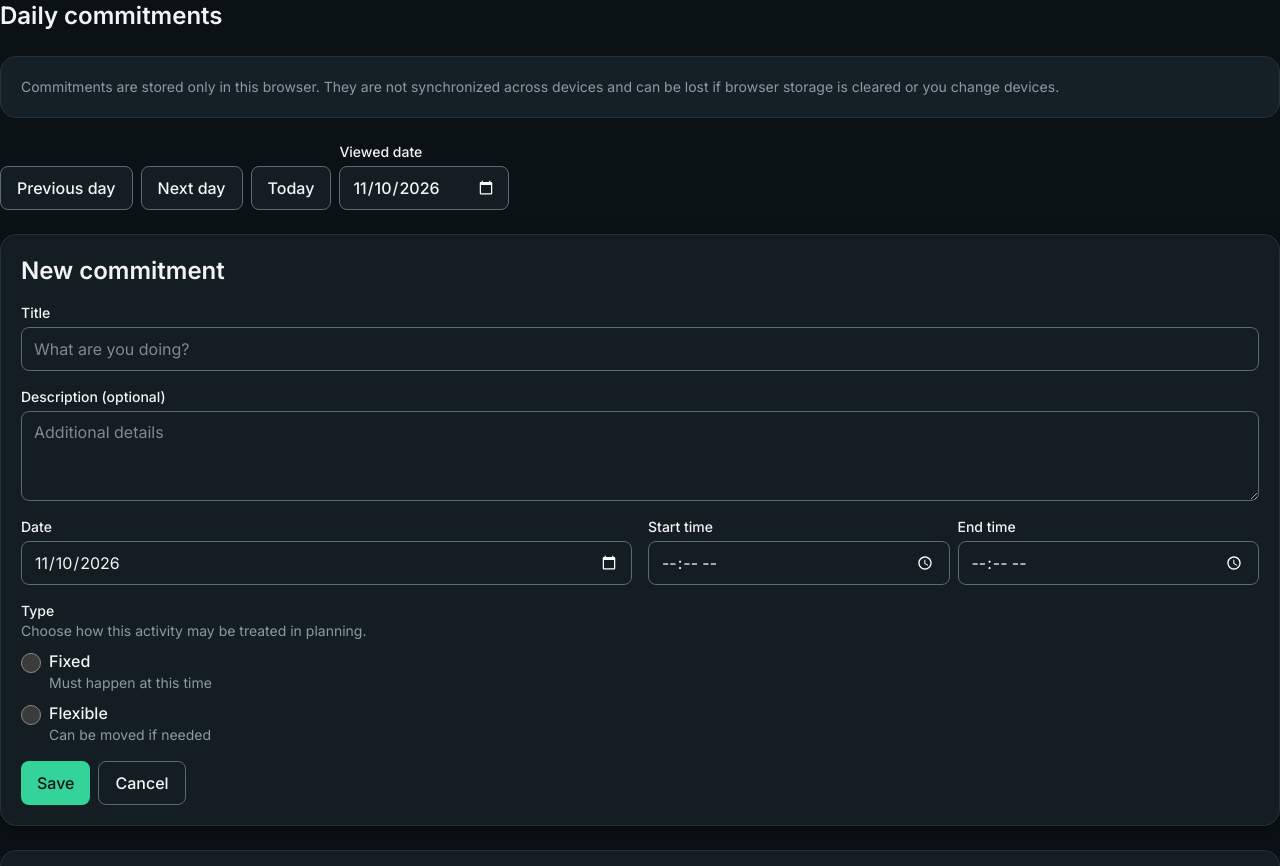
commitments accessibility › announces success and exposes error summaries without color-only cues
Step 1. Click the button "Save" → click(56, 783), box [21,761,90,805]
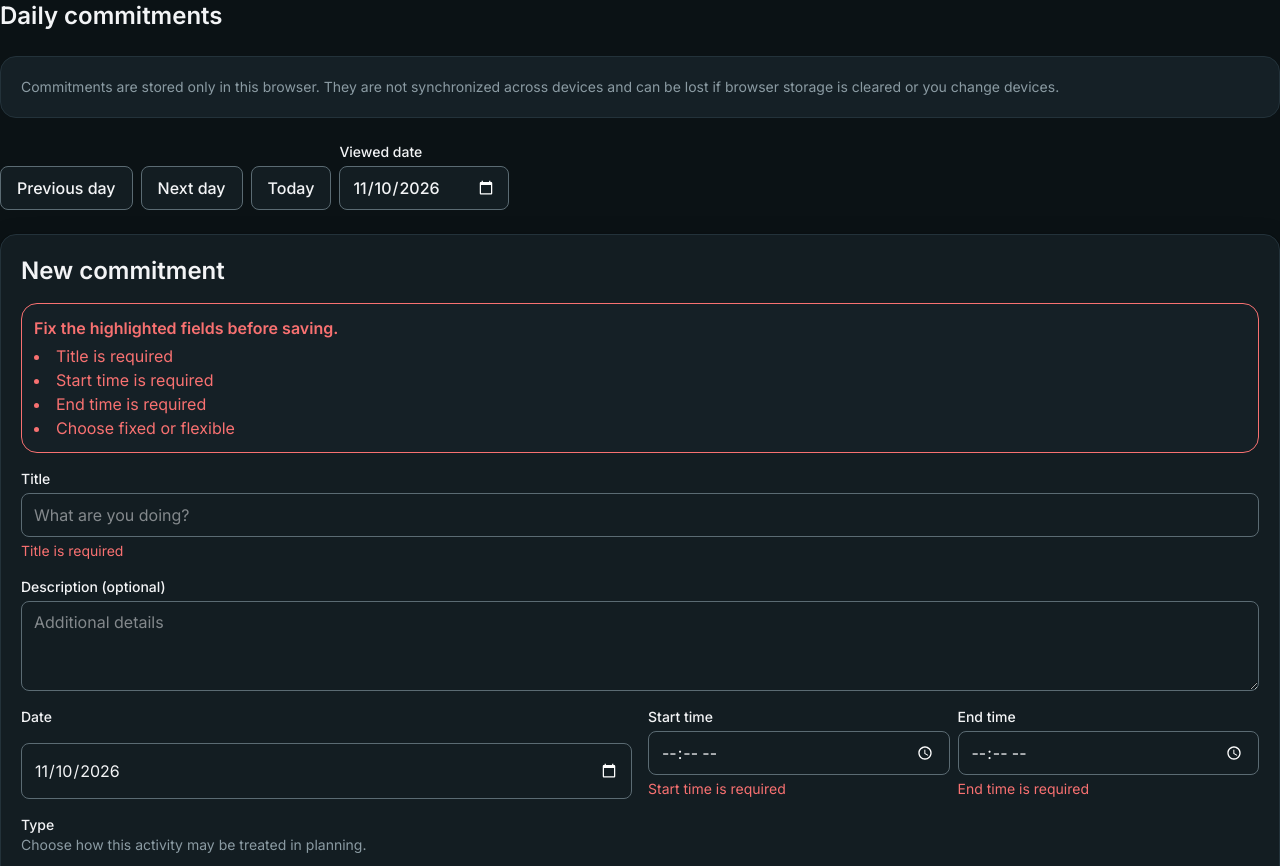
Now the message shows "Fix the highlighted fields", box [34,318,338,338]
Now the list item "Choose fixed or flexible" is shown, box [56,418,235,438]
Step 2. Type "Accessible plan" into the field labelled "Title" → (640, 515), box [21,493,1259,537]
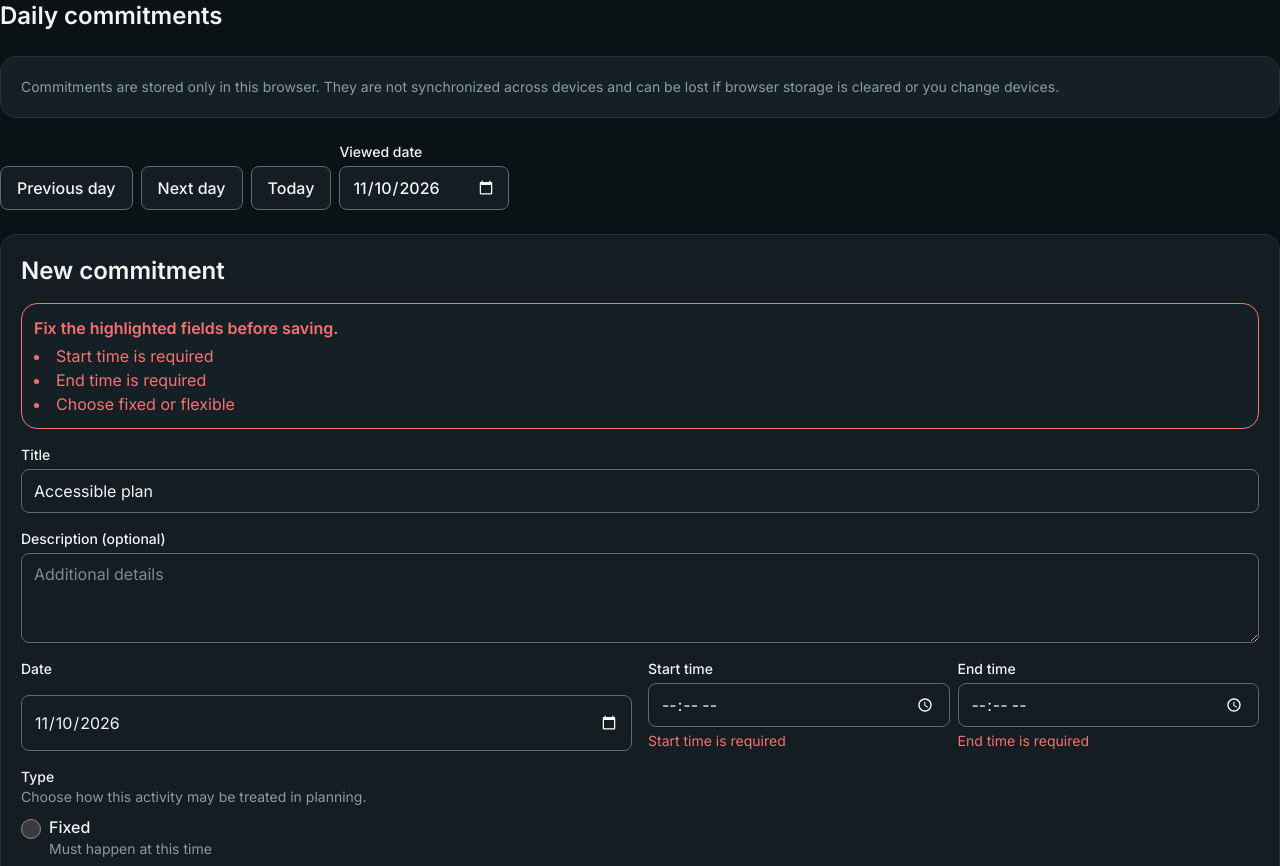
Step 3. Type "09:00" into the time field labelled "Start time" → (799, 705), box [648,683,950,727]
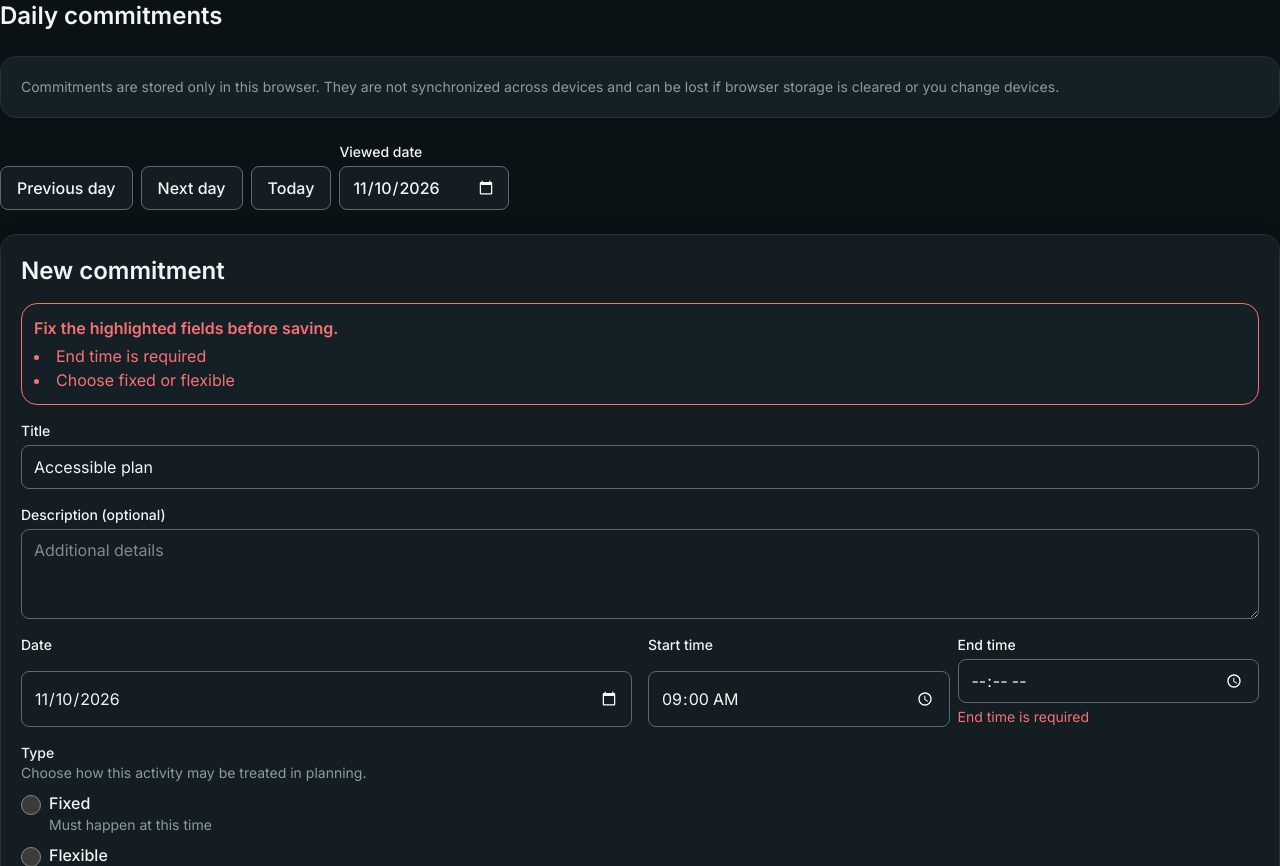
Step 4. Type "10:00" into the time field labelled "End time" → (1108, 681), box [958,659,1259,703]
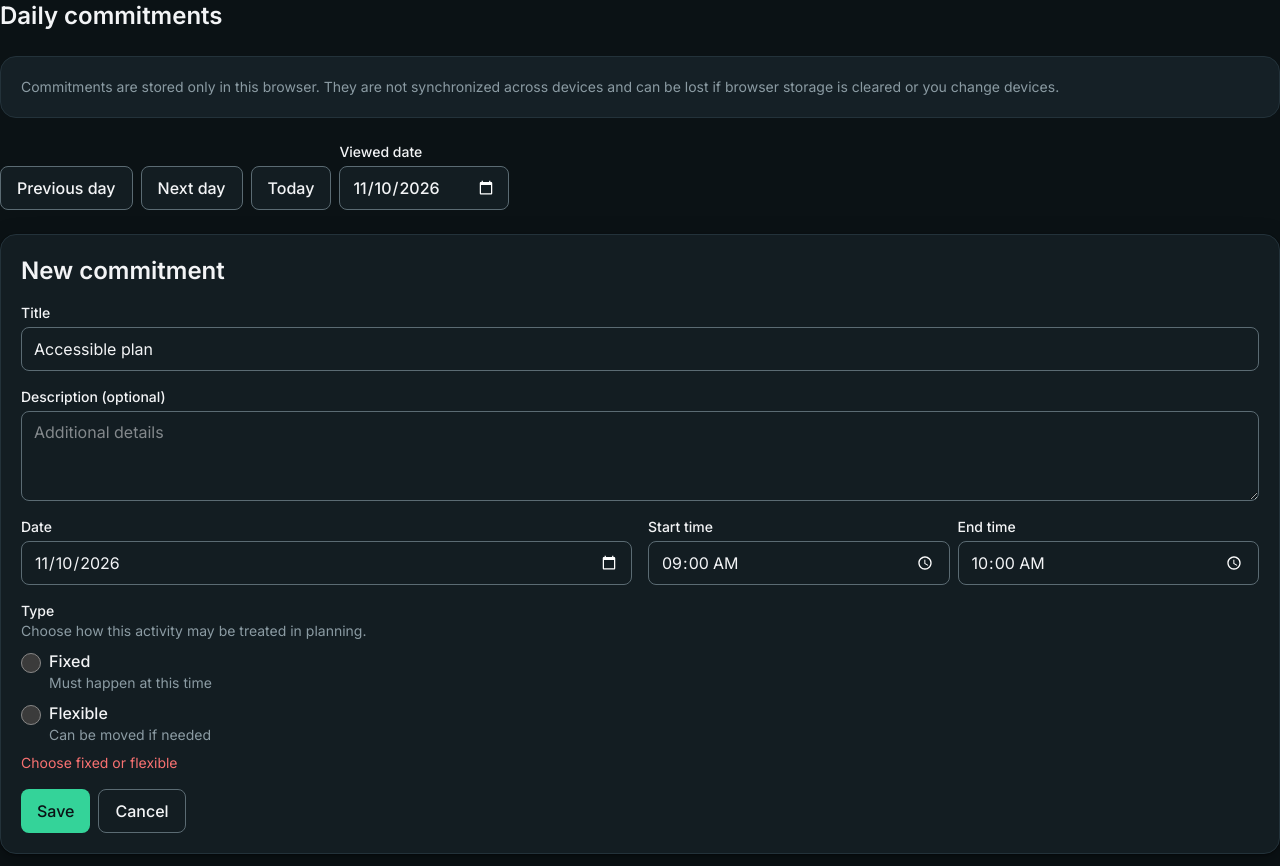
Step 5. Click the radio button labelled "Fixed Must happen at this time" → click(31, 663), box [21,653,41,673]
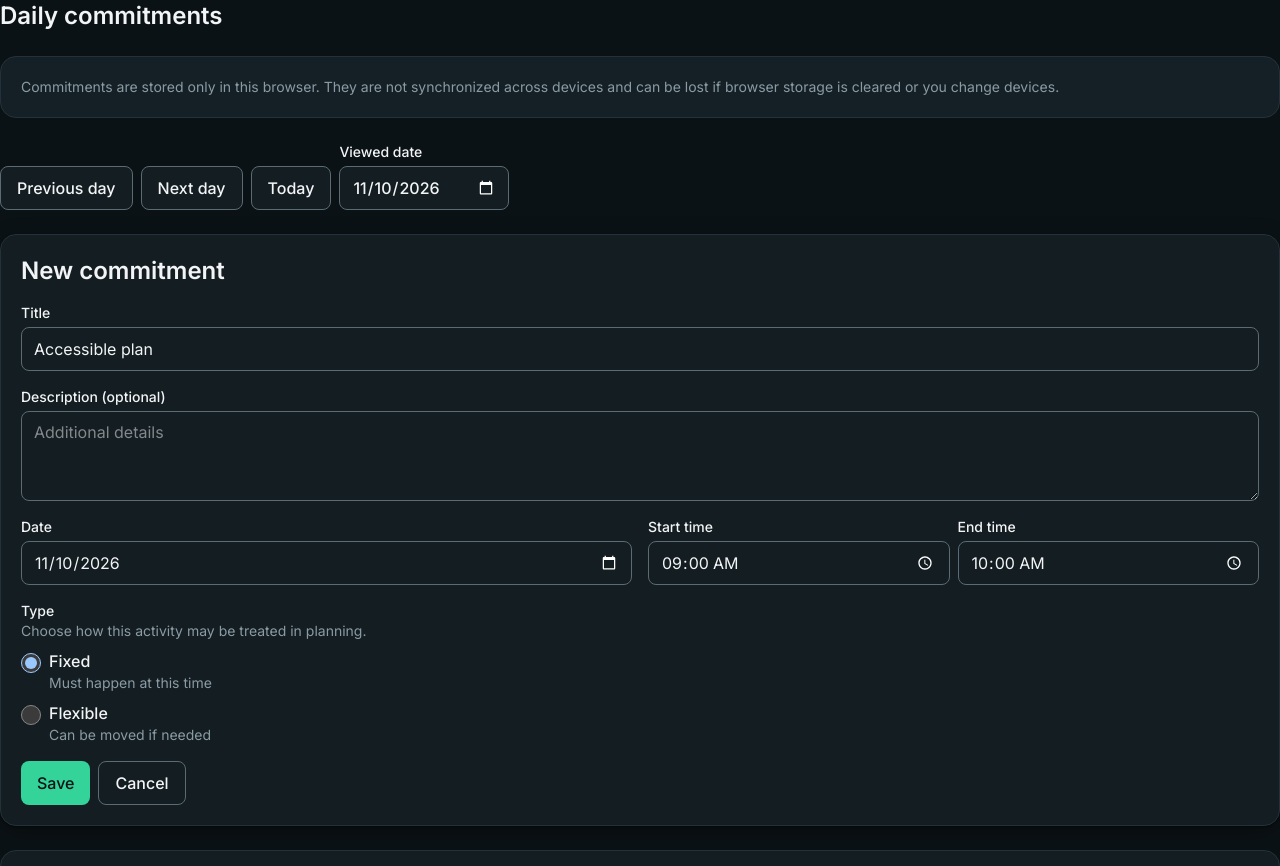
Step 6. Click the button "Save" → click(56, 783), box [21,761,90,805]
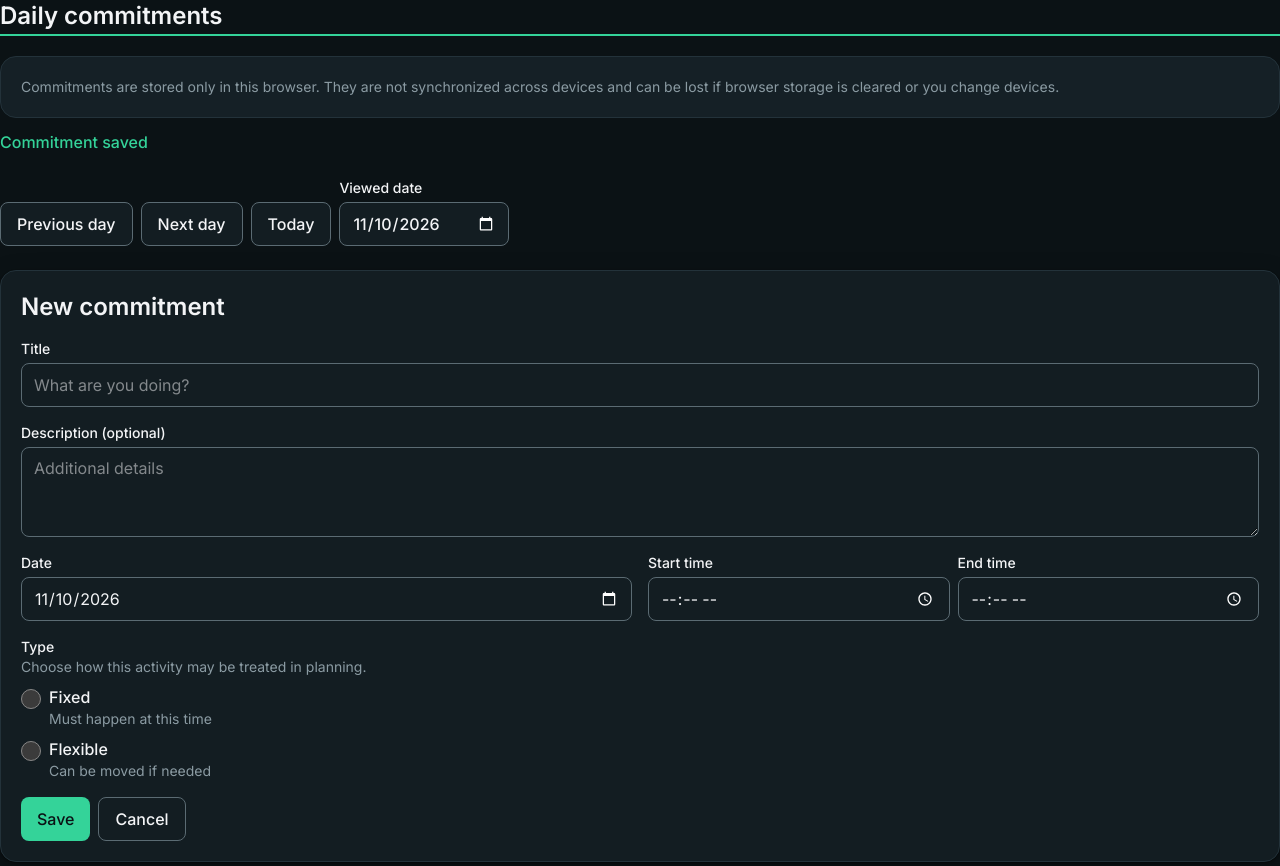
Now the text "Commitment saved" is shown, box [0,132,148,152]
